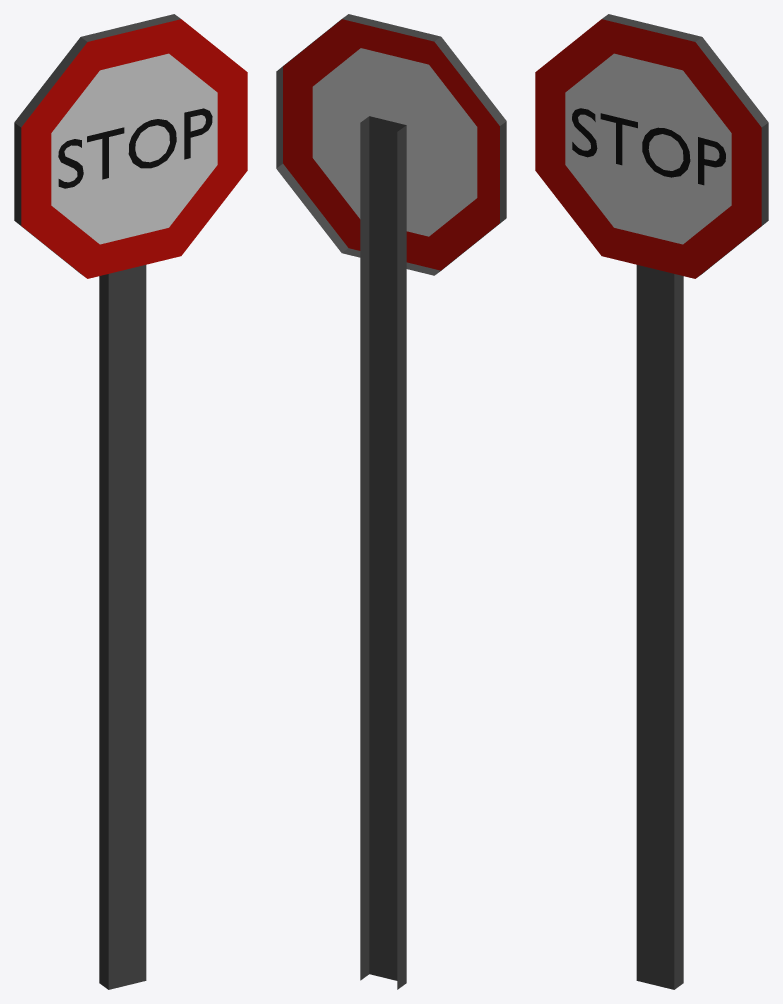
File: Stop Sign.fbx
The picture shows the model from 3 angles, left to right: view 1: azimuth 30°, elevation 25°; view 2: azimuth 150°, elevation 25°; view 3: azimuth 330°, elevation 25°; orthographic projection.
Visible parts, largest first — view 1: Stop sign; view 2: Stop sign; view 3: Stop sign.
Part boxes in pixels (box(x1,y1,x2,y2)): Stop sign: box(14, 14, 247, 989); Stop sign: box(276, 14, 506, 989); Stop sign: box(535, 14, 768, 989).
Bounding box in the file's own units: 0.9774 × 3.96 × 0.1238.
